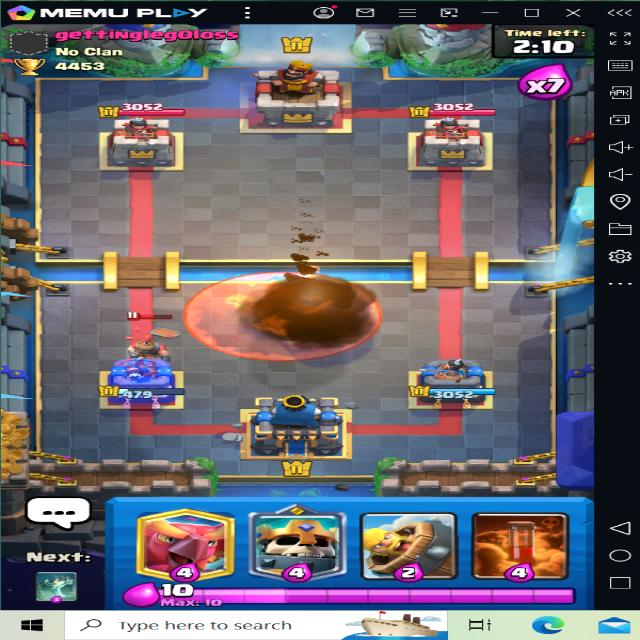Poison: (196, 264, 379, 363)
Royalrecruits: (121, 319, 174, 369)
